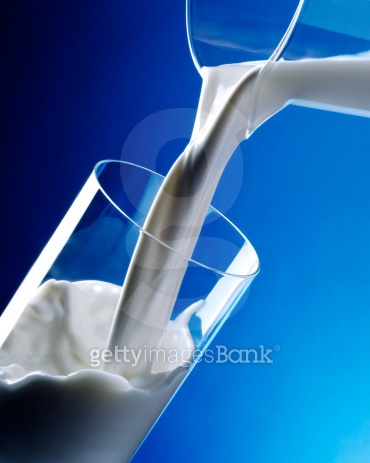glass of milk: (1, 154, 272, 463)
